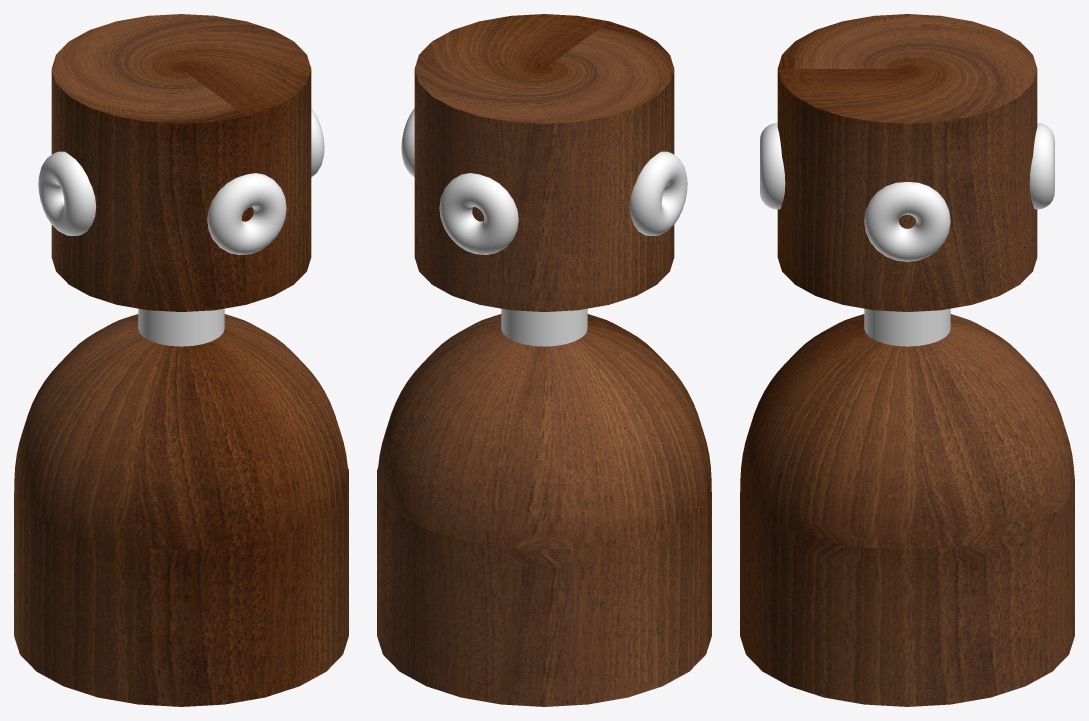
File: windmill 1.fbx
The picture shows the model from 3 angles, left to right: view 1: azimuth 30°, elevation 25°; view 2: azimuth 150°, elevation 25°; view 3: azimuth 270°, elevation 25°; orthographic projection.
Visible parts, largest first — view 1: Capsule, Cylinder1, Torus3, Torus1, Cylinder, Torus; view 2: Capsule, Cylinder1, Torus2, Torus1, Cylinder, Torus; view 3: Capsule, Cylinder1, Torus, Cylinder, Torus3, Torus2.
Part boxes in pixels (bbox=[...]): Capsule: bbox=[14, 314, 348, 706]; Cylinder1: bbox=[51, 14, 311, 311]; Torus3: bbox=[207, 173, 286, 254]; Torus1: bbox=[38, 151, 96, 235]; Cylinder: bbox=[138, 308, 224, 346]; Torus: bbox=[311, 108, 324, 176]; Capsule: bbox=[377, 314, 711, 706]; Cylinder1: bbox=[414, 14, 674, 311]; Torus2: bbox=[439, 173, 518, 254]; Torus1: bbox=[629, 151, 687, 235]; Cylinder: bbox=[501, 308, 587, 346]; Torus: bbox=[401, 108, 414, 176]; Capsule: bbox=[740, 314, 1074, 706]; Cylinder1: bbox=[777, 14, 1037, 311]; Torus: bbox=[864, 182, 950, 261]; Cylinder: bbox=[864, 308, 950, 346]; Torus3: bbox=[760, 123, 785, 209]; Torus2: bbox=[1029, 123, 1054, 209].
Size of the model in its own units: 0.9665 by 1.81 by 0.9665.
2 materials, 1 textured.
